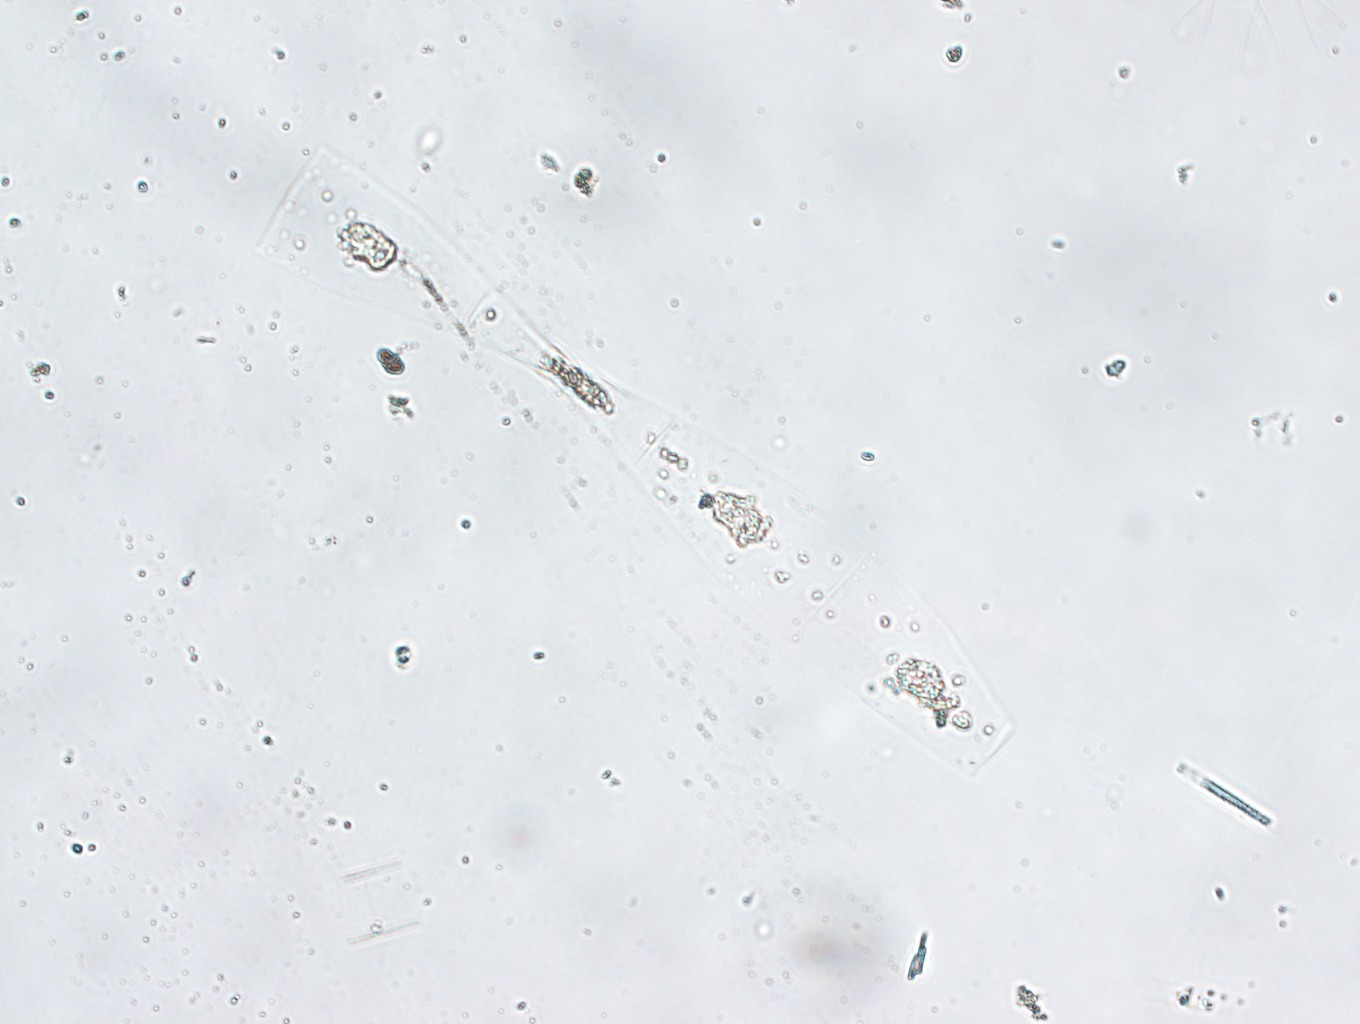helicotheca: (247, 136, 1021, 781)
